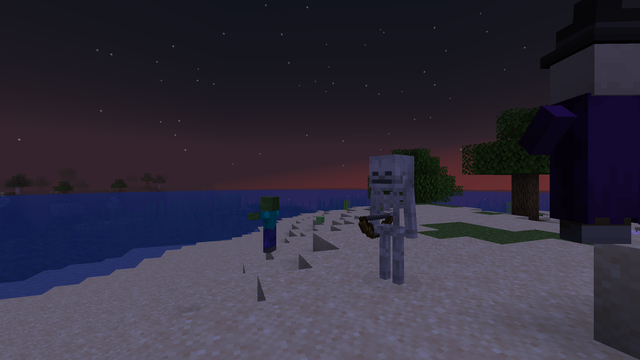slimes: (316, 215, 323, 222)
sorcieres: (540, 26, 637, 251)
squelettes: (365, 154, 418, 290)
zombies: (260, 197, 279, 253)
